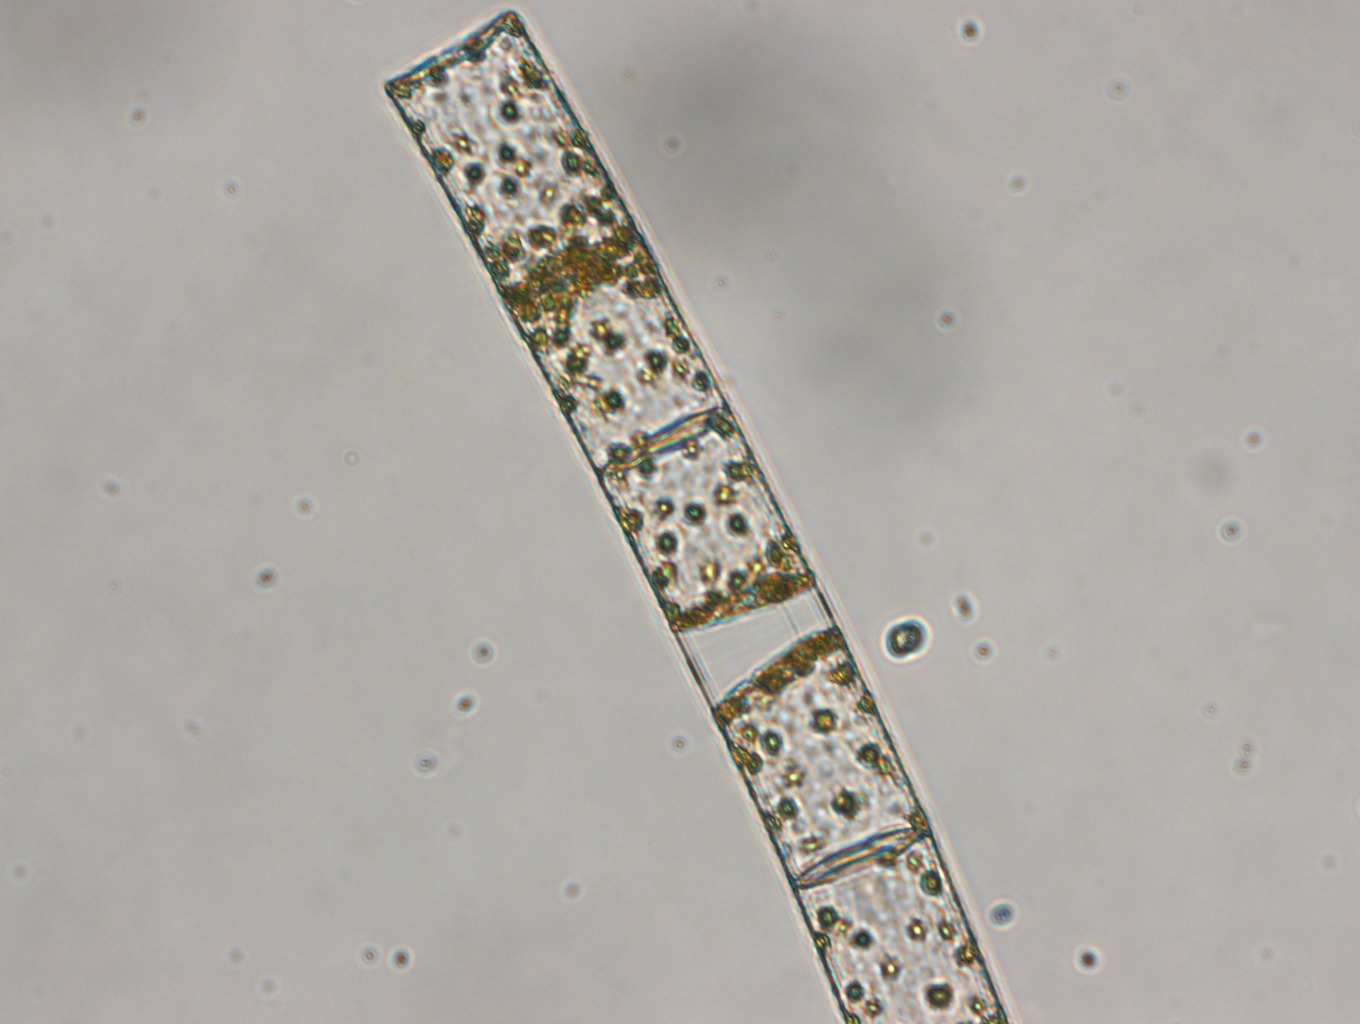guinardia flaccida: (380, 8, 1012, 1024)
